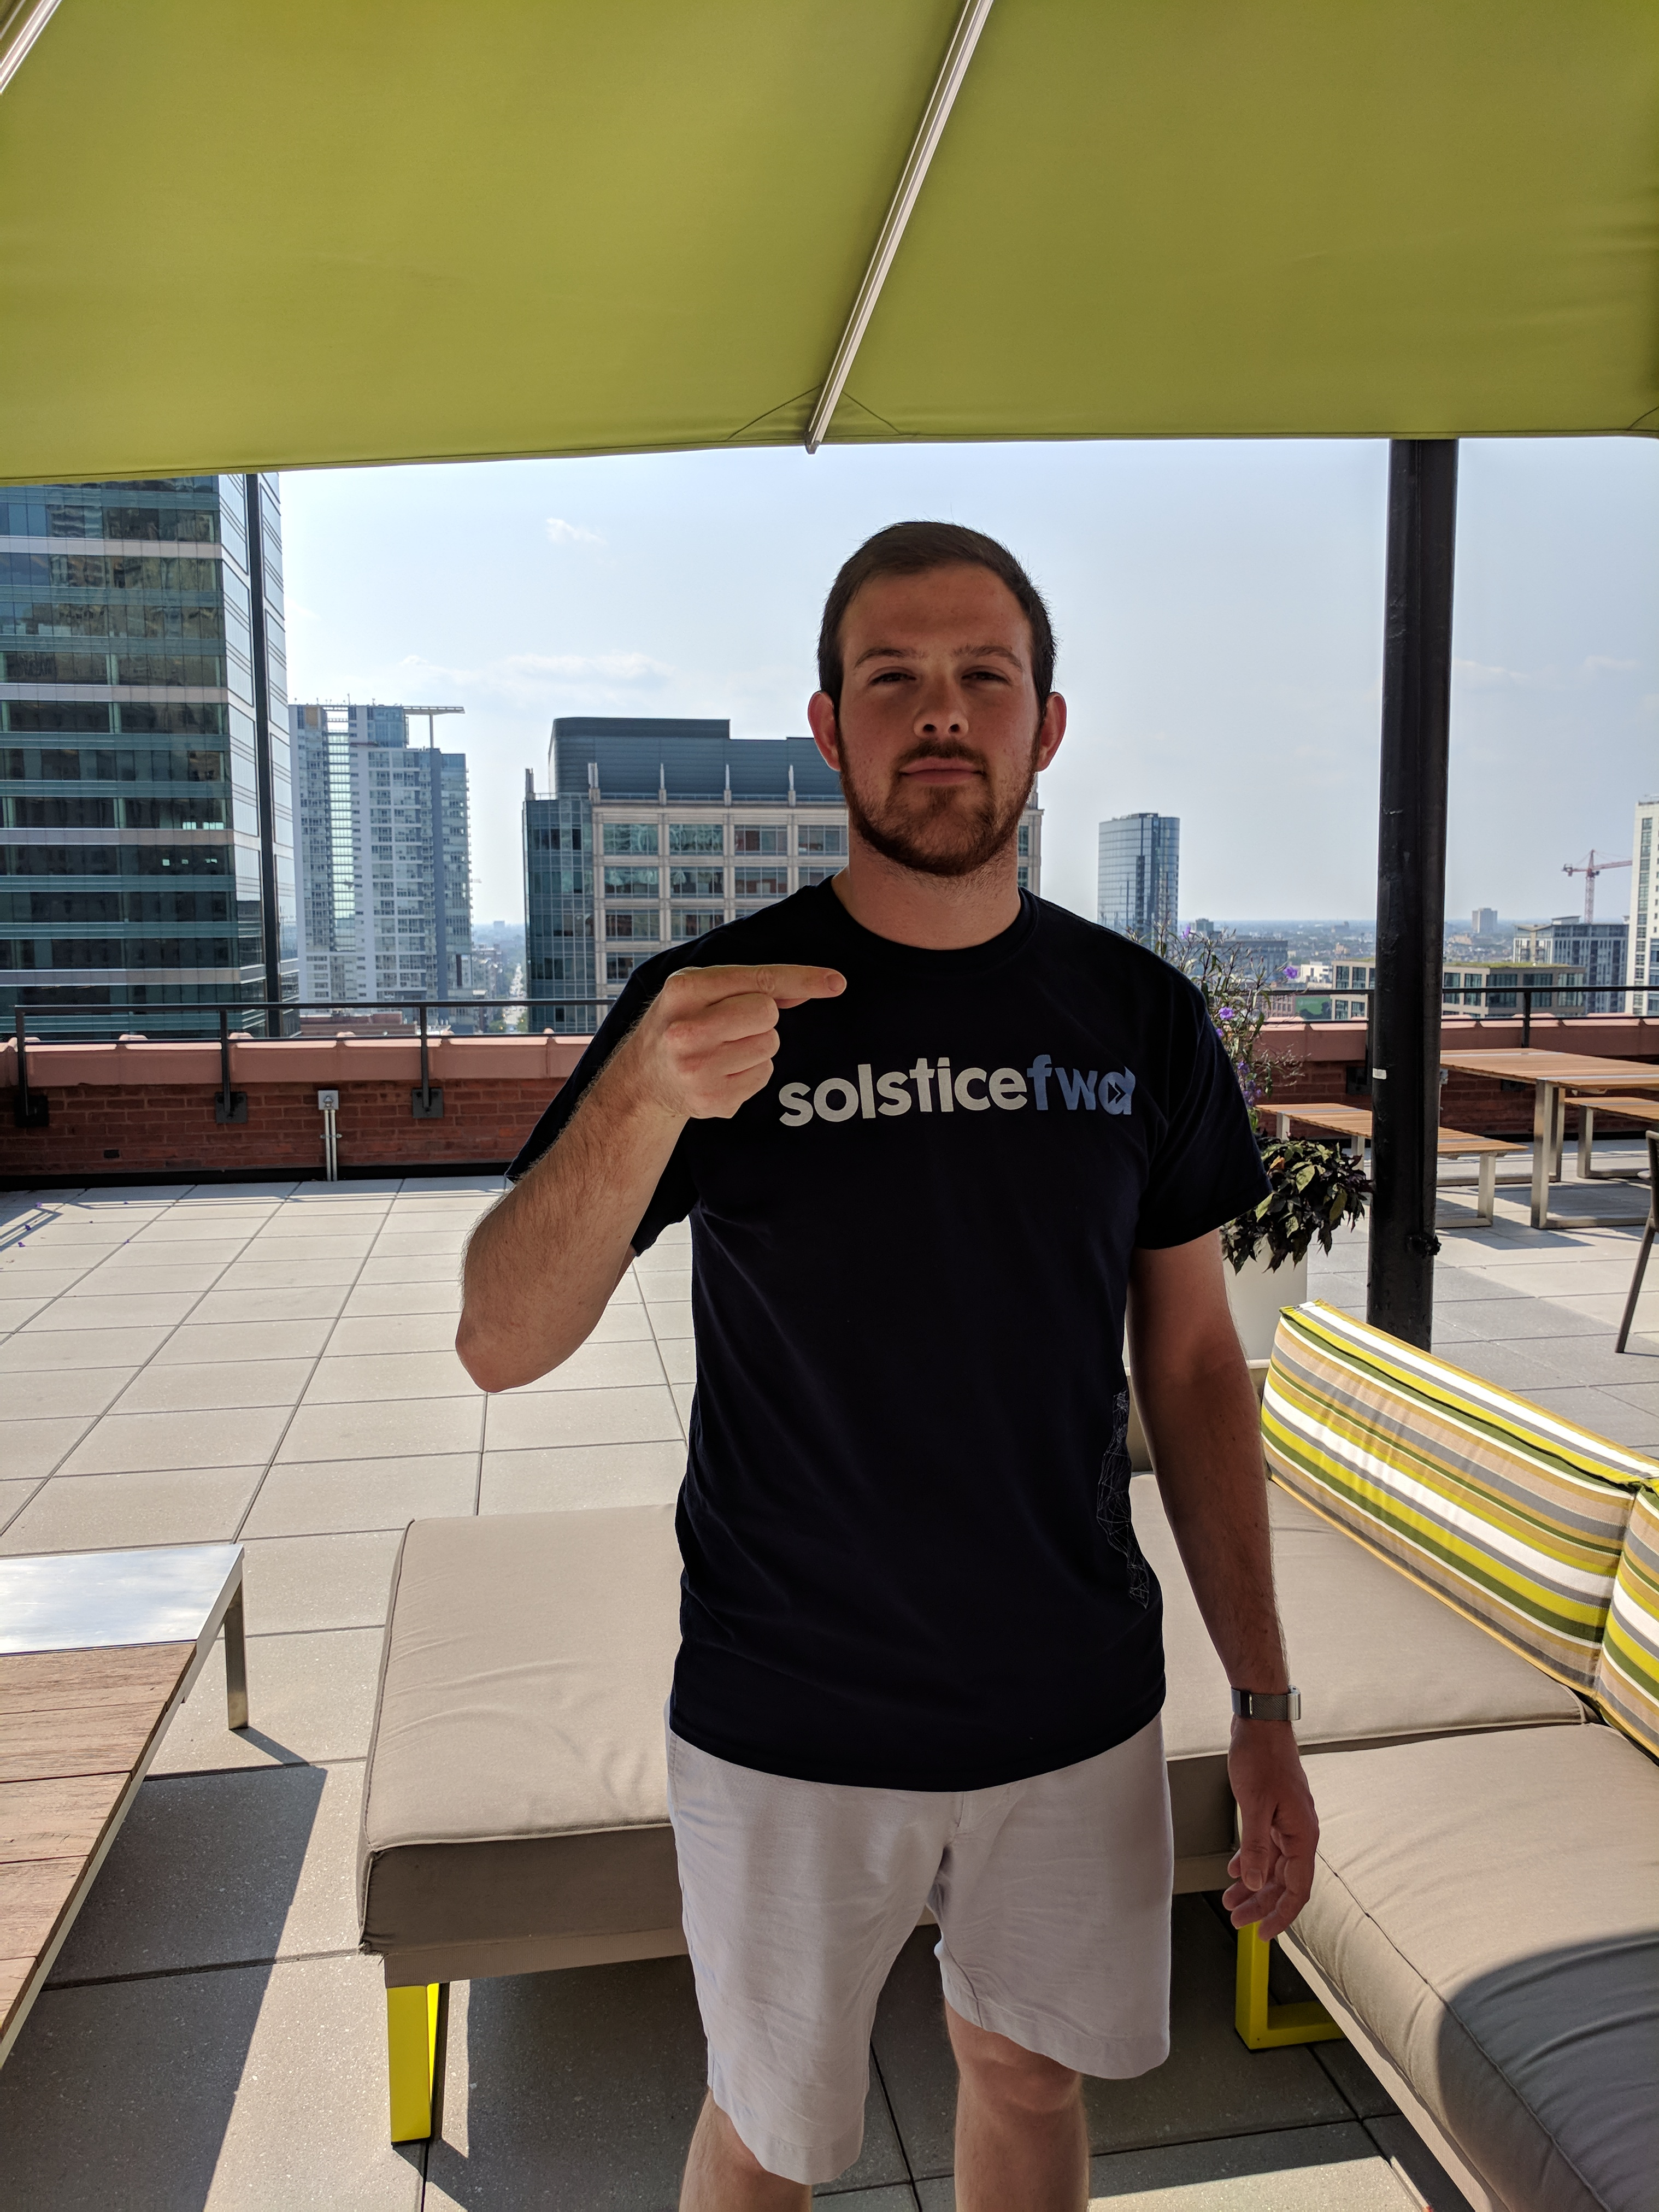g: (650, 961, 859, 1139)
